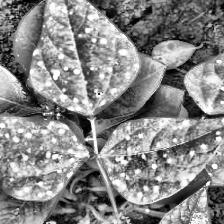Bean Rust: (26, 0, 140, 112), (100, 110, 224, 201), (0, 112, 82, 199), (182, 54, 224, 113), (204, 132, 224, 188)
